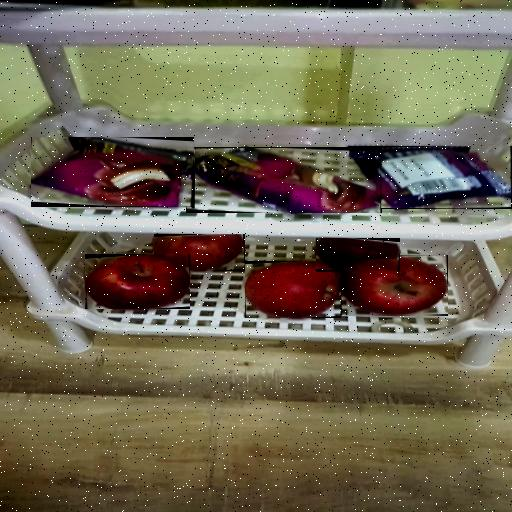Apple: (341, 256, 448, 315), (86, 254, 189, 309), (245, 261, 341, 318), (154, 234, 244, 270), (317, 238, 399, 271)
Choco Pie: (187, 148, 380, 213), (31, 137, 194, 207), (348, 146, 511, 208)
